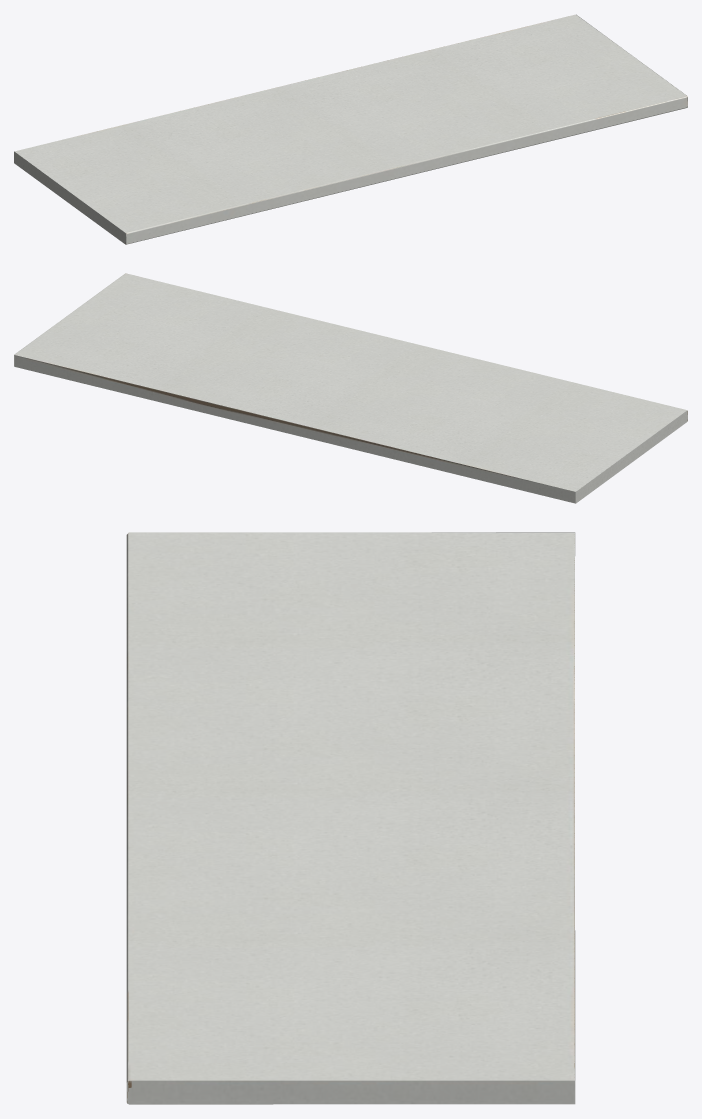
Rendered from S_LJAN_90556882.glb.
The picture shows the model from 3 angles, top to bottom: view 1: azimuth 30°, elevation 25°; view 2: azimuth 150°, elevation 25°; view 3: azimuth 270°, elevation 25°; orthographic projection. The views are drawn at different scales.
Visible parts, largest first — view 1: model; view 2: model; view 3: model.
Part boxes in pixels (x1,y1,x2,y2): model: (14,14,687,244); model: (14,273,687,503); model: (126,532,575,1104).
Bounding box in the file's own units: 1.88 × 0.0382 × 0.65.
1 material, 1 textured.
